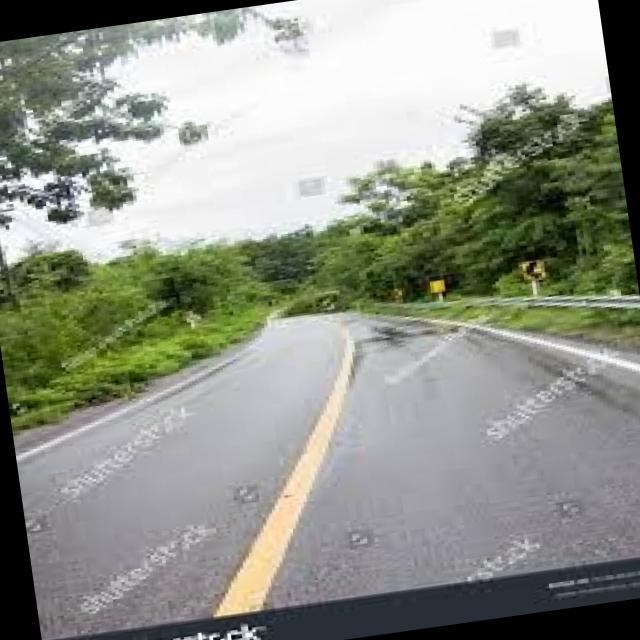fallen_object: (269, 266, 390, 333)
